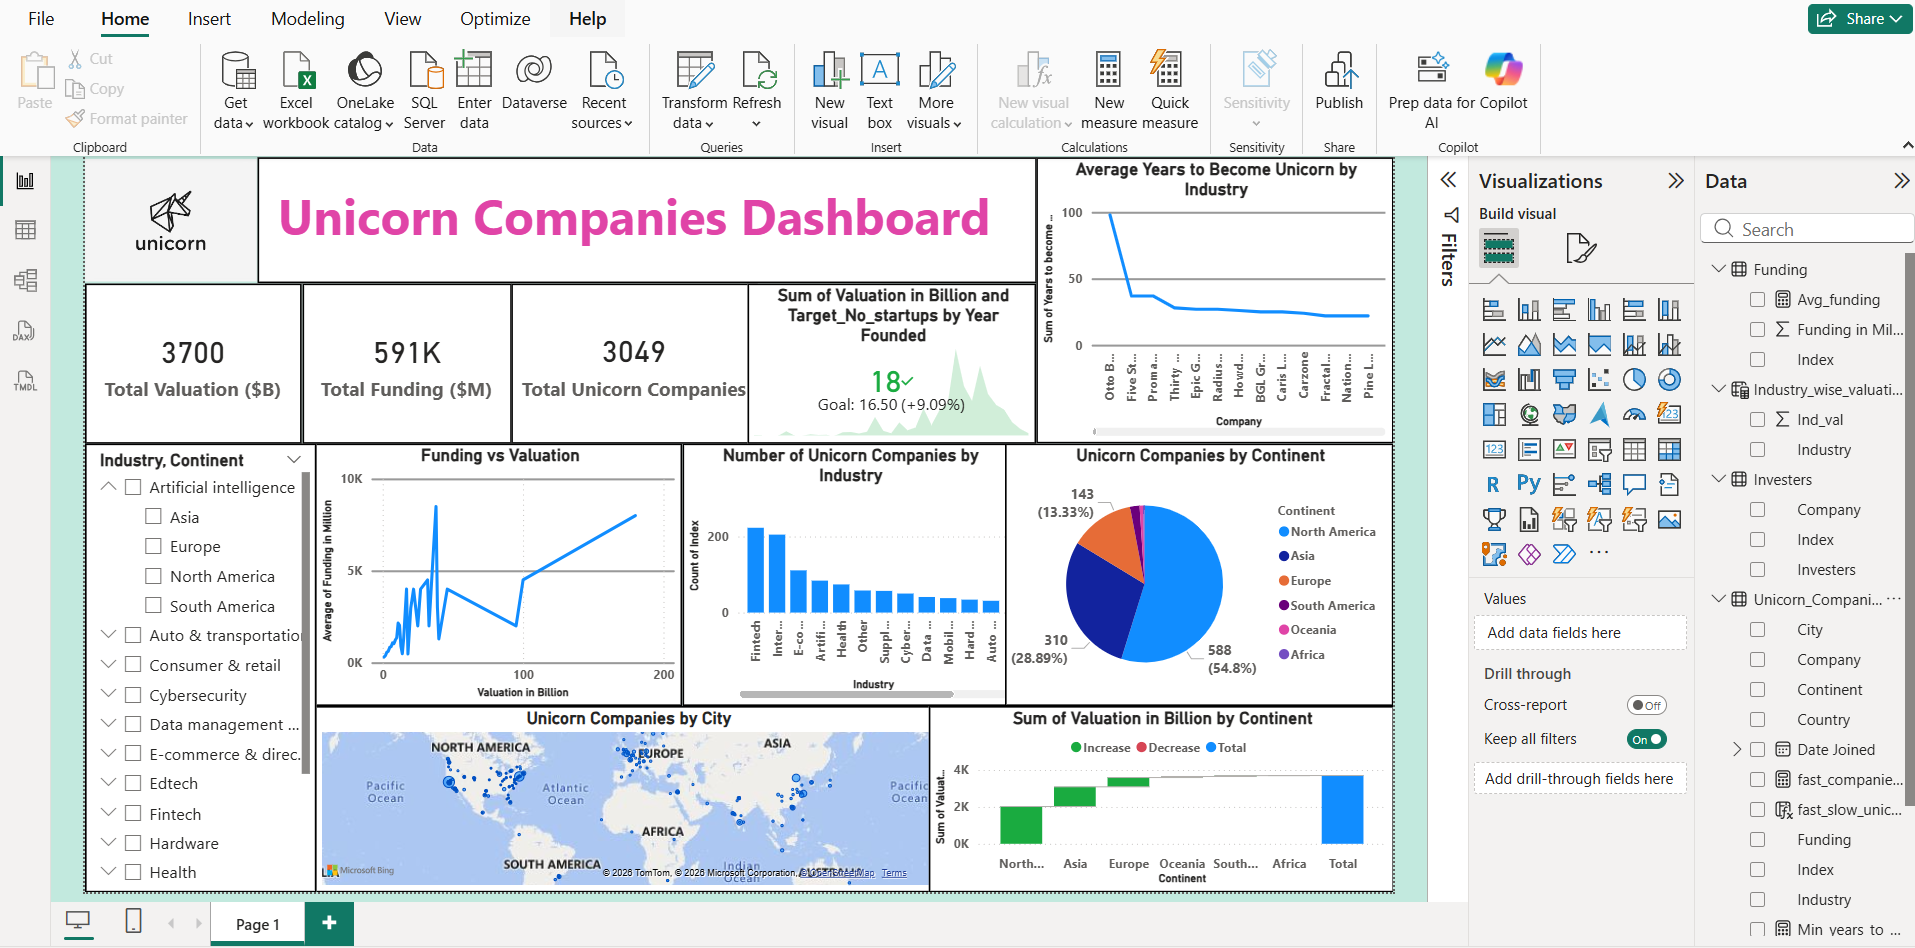

What the dashboard file says about the page in this screenshot:
{"tool":"powerbi","page":{"name":"Page 1","canvas":[1280,720],"ordinal":0},"visuals":[{"type":"textbox","box":[168.4,1.3,762.6,123.1],"z":0},{"type":"clusteredColumnChart","title":"Number of Unicorn Companies by Industry","fields":{"Y":["CountNonNull(Unicorn_Companies.Index)"],"Category":["Unicorn_Companies.Industry"]},"box":[584.5,281.3,326.5,256.8],"z":1000},{"type":"map","title":"Unicorn Companies by City","fields":{"Category":["Unicorn_Companies.City"],"Size":["CountNonNull(Unicorn_Companies.Index)"]},"box":[225,538,611.4,182.2],"z":2000},{"type":"lineChart","title":"Funding vs Valuation","fields":{"Y":["Avg(Funding.Funding in Million)"],"Category":["Unicorn_Companies.Valuation in Billion"]},"box":[225,281.3,359.5,256.8],"z":3000},{"type":"pieChart","title":"Unicorn Companies by Continent","fields":{"Category":["Unicorn_Companies.Continent"],"Y":["CountNonNull(Unicorn_Companies.Index)"]},"box":[900,281.3,380.3,256.8],"z":4000},{"type":"waterfallChart","fields":{"Category":["Unicorn_Companies.Continent"],"Y":["Sum(Unicorn_Companies.Valuation in Billion)"]},"box":[825.4,538,454.9,182.2],"z":5000},{"type":"lineChart","title":"Average Years to Become Unicorn by Industry","fields":{"Category":["Unicorn_Companies.Company"],"Y":["Sum(Unicorn_Companies.Years to become Unicorn)"]},"box":[931,1.3,349.3,280.2],"z":6000},{"type":"slicer","fields":{"Values":["Unicorn_Companies.Industry","Unicorn_Companies.Continent"]},"box":[0,281.3,226.2,439],"z":7000},{"type":"card","fields":{"Values":["Sum(Unicorn_Companies.Valuation in Billion)"]},"box":[0,124.4,212.3,157],"z":8000},{"type":"card","fields":{"Values":["Sum(Funding.Funding in Million)"]},"box":[212.3,124.4,204.8,157],"z":9000},{"type":"card","fields":{"Values":["CountNonNull(Investers.Index)"]},"box":[417,124.7,240.9,156.5],"z":10000},{"type":"kpi","fields":{"Goal":["Unicorn_Companies.Target_No_startups"],"TrendLine":["Unicorn_Companies.Year Founded"],"Indicator":["Sum(Unicorn_Companies.Valuation in Billion)"]},"box":[648.1,124.7,282.5,156.5],"z":11000},{"type":"image","box":[0,1.3,168.4,123.1],"z":12000}]}

Visuals, with their boxes on the page's 1280x720 design canvas (x1, y1, x2, y2). These are canvas units, not pixel positions in the 1915x948 screenshot, which may show the page scaled, cropped or inside an application window:
textbox: select_region(168, 1, 931, 124)
"Number of Unicorn Companies by Industry" clusteredColumnChart: select_region(584, 281, 911, 538)
"Unicorn Companies by City" map: select_region(225, 538, 836, 720)
"Funding vs Valuation" lineChart: select_region(225, 281, 584, 538)
"Unicorn Companies by Continent" pieChart: select_region(900, 281, 1280, 538)
waterfallChart - Unicorn_Companies.Continent x Sum(Unicorn_Companies.Valuation in Billion): select_region(825, 538, 1280, 720)
"Average Years to Become Unicorn by Industry" lineChart: select_region(931, 1, 1280, 282)
slicer - Unicorn_Companies.Industry x Unicorn_Companies.Continent: select_region(0, 281, 226, 720)
card - Sum(Unicorn_Companies.Valuation in Billion): select_region(0, 124, 212, 281)
card - Sum(Funding.Funding in Million): select_region(212, 124, 417, 281)
card - CountNonNull(Investers.Index): select_region(417, 125, 658, 281)
kpi - Unicorn_Companies.Target_No_startups x Unicorn_Companies.Year Founded: select_region(648, 125, 931, 281)
image: select_region(0, 1, 168, 124)
